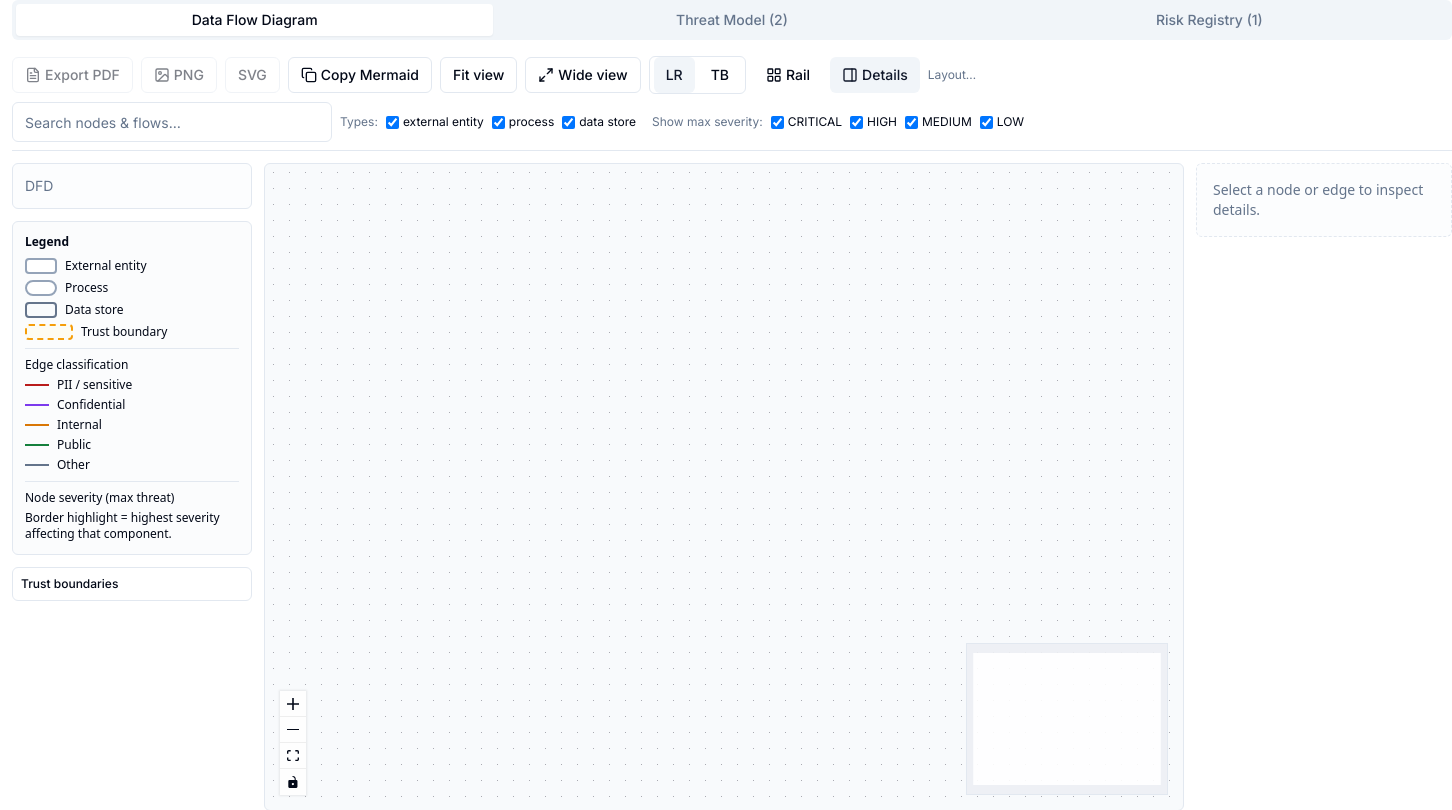
Scenario: <JobReport /> › disables Excel export when riskRegistry.risks is empty
The image size is (1452, 810).
Click the tab "Risk Registry (1)": [1209, 20] box [971,4,1448,36]
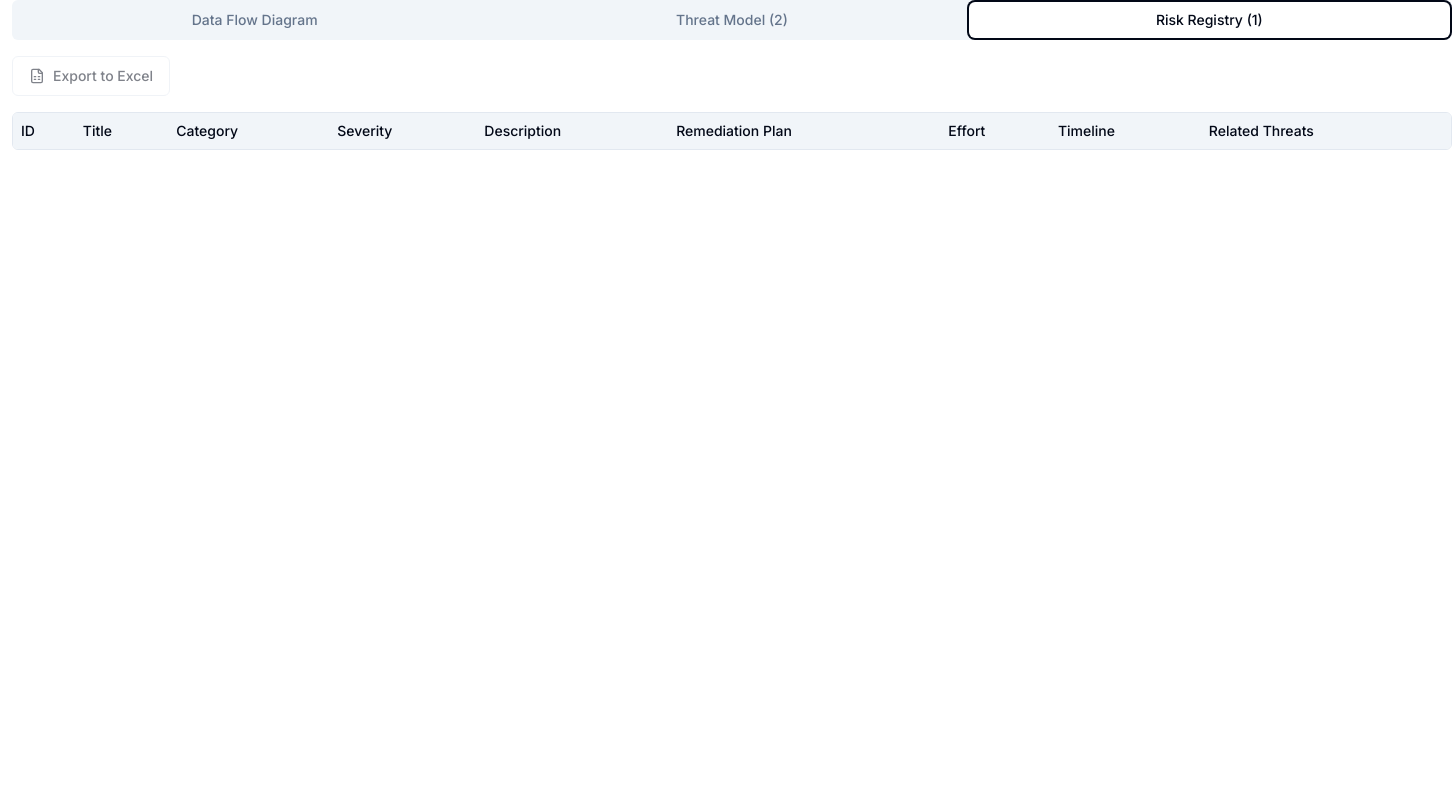
expect the button "Export to Excel" is disabled: met, box [12,56,170,96]
